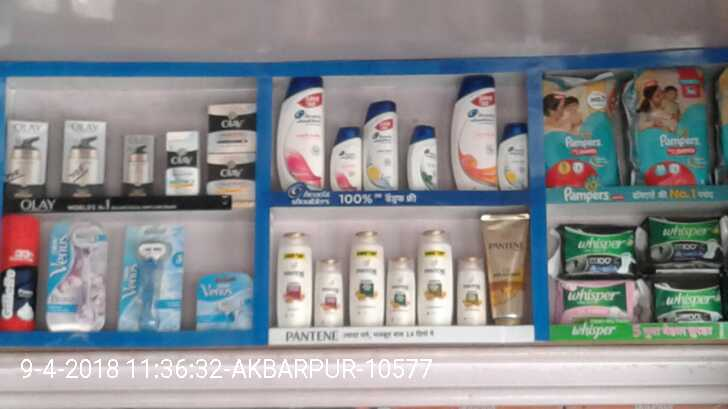venus: (44, 217, 108, 331), (122, 217, 182, 329), (195, 271, 251, 328)
